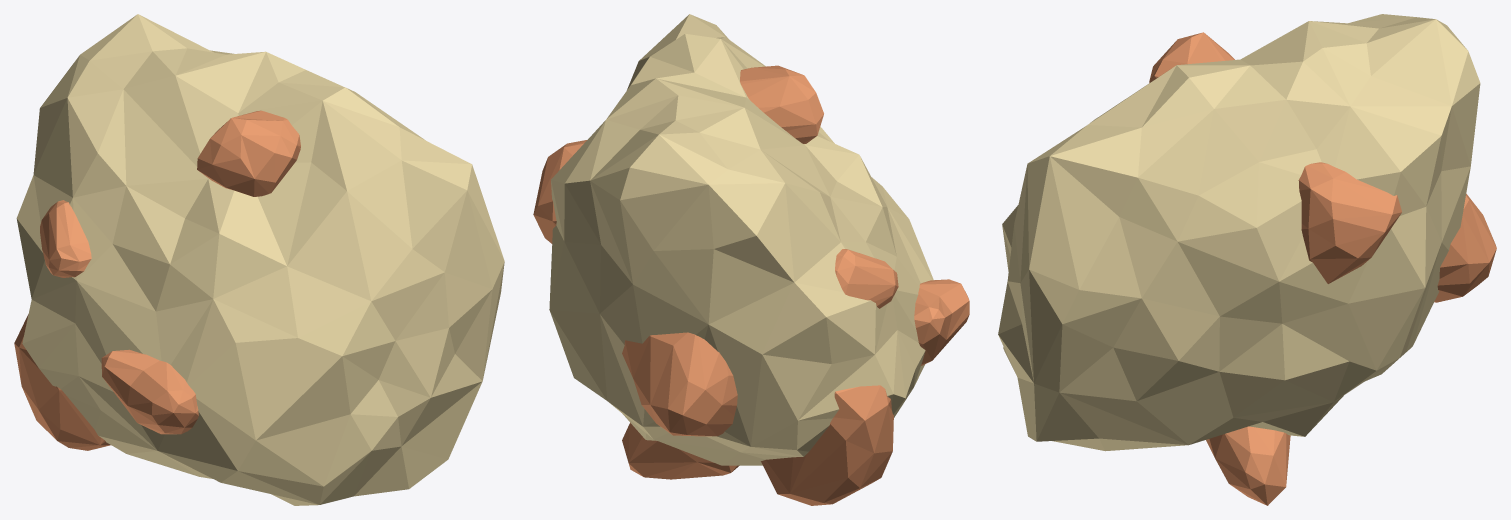
The model's file is StoneOre (5).fbx.
3 renders of one model, left to right at view 1: azimuth 30°, elevation 25°; view 2: azimuth 150°, elevation 25°; view 3: azimuth 270°, elevation 25°, orthographic. The views are drawn at different scales.
Visible parts, largest first — view 1: Asteroid292; view 2: Asteroid292; view 3: Asteroid292.
Part boxes in pixels (x1,y1,x2,y2): Asteroid292: (14,14,504,505); Asteroid292: (533,14,969,505); Asteroid292: (998,14,1496,505).
Size of the model in its own units: 406 by 443 by 461.
